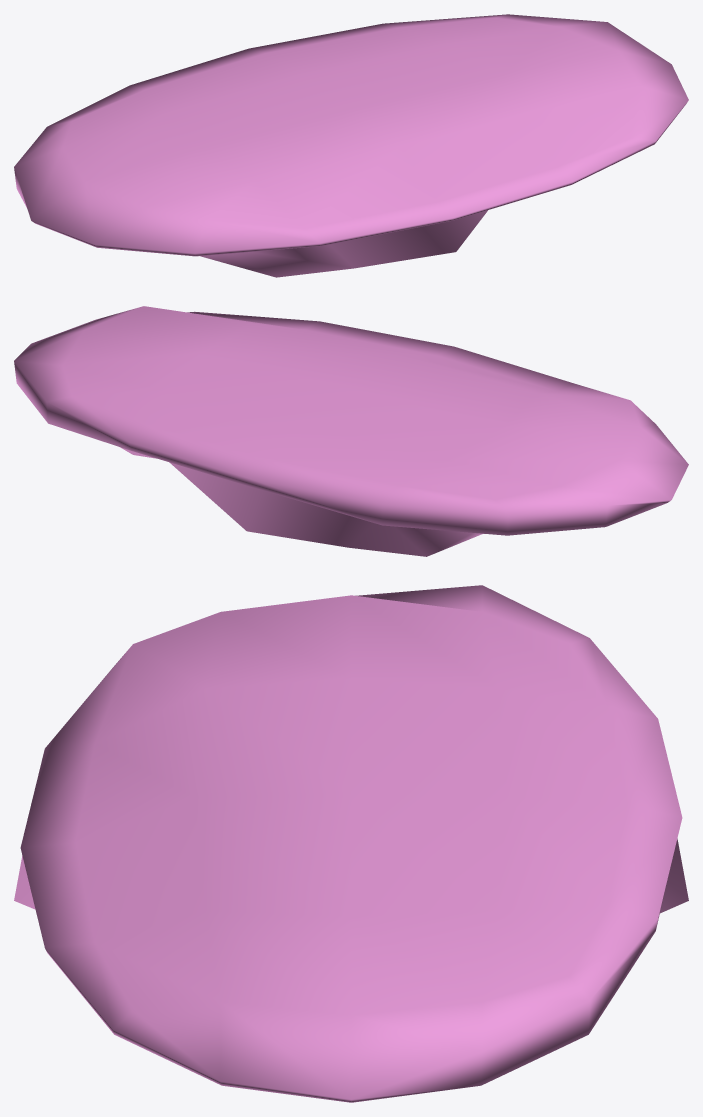
The model's file is brick.fbx.
3 renders of one model, top to bottom at view 1: azimuth 30°, elevation 25°; view 2: azimuth 150°, elevation 25°; view 3: azimuth 270°, elevation 25°, orthographic. The views are drawn at different scales.
Parts seen in each view (by area): view 1: Cube; view 2: Cube; view 3: Cube.
Boxes of the visible parts, <box> form: Cube: <box>14,14,688,277</box>; Cube: <box>14,306,688,556</box>; Cube: <box>14,585,688,1102</box>.
Bounding box in the file's own units: 224 × 25.95 × 127.
